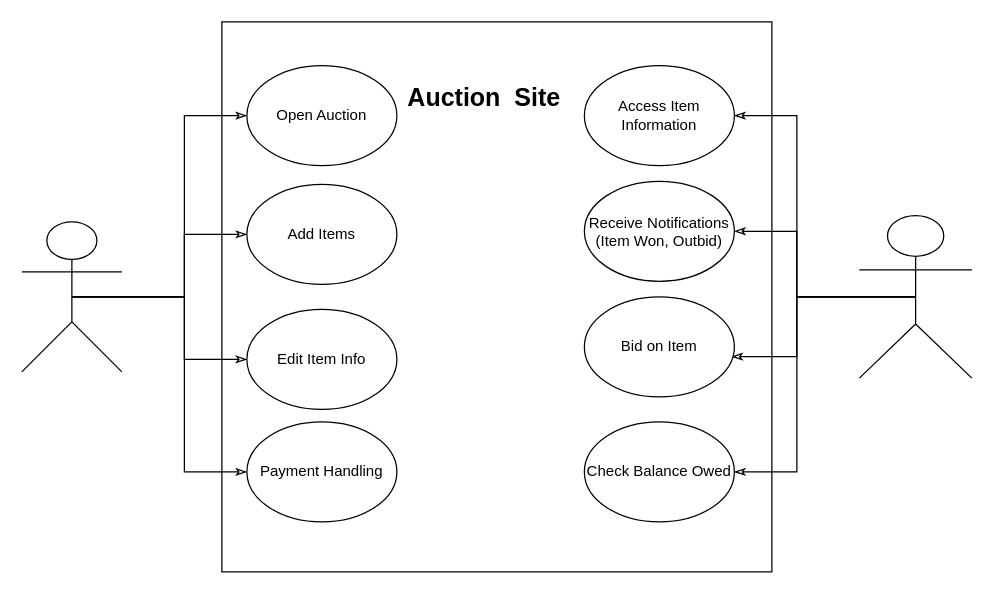
The diagram is 994 pixels wide and 594 high, and some of its shapes have lost their labels. The shapes that lost their labels are listed below. From the top down, each one's box as (x1, y1, x2, y2) in pixels, then its label:
(21, 221, 122, 372): Administrator
(858, 214, 972, 378): Bidder
